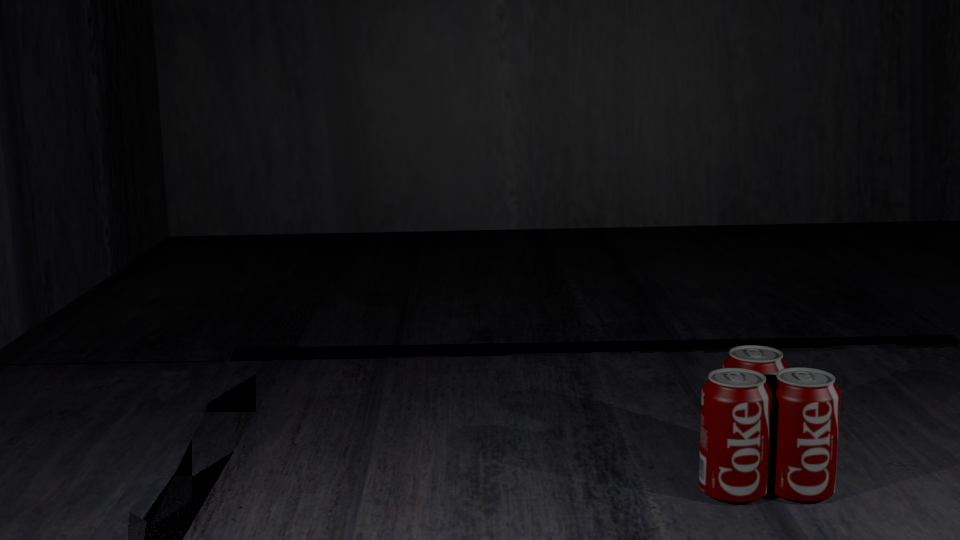cola_can: (769, 368, 840, 497), (701, 368, 771, 498), (724, 346, 787, 467)
